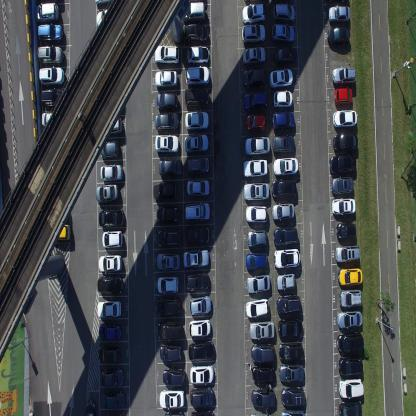car: (187, 338, 214, 360), (243, 180, 270, 202), (37, 44, 64, 66), (329, 153, 356, 175), (157, 318, 182, 341), (277, 342, 303, 364), (338, 333, 364, 355), (244, 135, 270, 157), (184, 200, 210, 222), (184, 110, 210, 132), (154, 110, 180, 132), (180, 0, 206, 22), (332, 108, 358, 130), (158, 388, 185, 409), (98, 208, 126, 228), (156, 295, 181, 317), (185, 269, 210, 291), (184, 86, 209, 108), (40, 86, 65, 108), (338, 354, 363, 376), (271, 178, 297, 199), (272, 156, 298, 177), (37, 22, 63, 43), (154, 44, 180, 65), (338, 377, 364, 398), (38, 65, 65, 85), (97, 276, 125, 295), (250, 342, 274, 364), (277, 294, 301, 316), (153, 179, 177, 201), (244, 89, 268, 111), (242, 66, 266, 88), (332, 64, 356, 86), (269, 68, 293, 90), (274, 247, 299, 268), (185, 223, 210, 244), (273, 224, 298, 245), (245, 297, 270, 318), (185, 65, 210, 86), (184, 22, 209, 43), (241, 3, 266, 24), (99, 366, 124, 387), (242, 158, 268, 178), (33, 2, 59, 22), (278, 363, 304, 383), (40, 110, 67, 129), (247, 272, 270, 294), (159, 156, 182, 178), (186, 156, 209, 178), (188, 294, 212, 315), (184, 133, 208, 154), (155, 134, 179, 155), (96, 183, 120, 204), (99, 115, 123, 136), (271, 23, 295, 44), (281, 386, 305, 407), (190, 386, 214, 407), (338, 267, 363, 287), (95, 9, 120, 29), (189, 364, 214, 384), (101, 389, 126, 409), (183, 248, 209, 267), (155, 251, 181, 270), (250, 321, 276, 340), (337, 311, 363, 330), (335, 244, 361, 263), (241, 46, 267, 65), (339, 289, 362, 310), (186, 44, 209, 65), (278, 319, 302, 339), (97, 298, 121, 318), (154, 68, 178, 88), (273, 46, 297, 66), (251, 388, 275, 408), (162, 366, 186, 386), (157, 227, 182, 246), (98, 254, 123, 273), (241, 24, 266, 43), (333, 133, 358, 152), (331, 196, 356, 215), (98, 345, 120, 366), (102, 228, 124, 249), (272, 201, 294, 222), (159, 342, 182, 362), (156, 90, 179, 110), (272, 109, 295, 129), (327, 26, 350, 46), (98, 324, 122, 343), (156, 205, 180, 224), (156, 274, 178, 294), (245, 250, 267, 270), (252, 363, 274, 383), (272, 135, 295, 154), (47, 222, 70, 241), (272, 2, 295, 21), (331, 176, 354, 195), (186, 178, 210, 196), (101, 164, 125, 182), (247, 227, 267, 248), (245, 112, 266, 132), (328, 4, 350, 23), (335, 221, 357, 240), (245, 204, 268, 222), (339, 398, 362, 416), (276, 272, 296, 292), (100, 141, 120, 161), (188, 318, 210, 336), (273, 88, 293, 107), (334, 87, 352, 106), (84, 400, 97, 416), (190, 408, 214, 416), (280, 408, 307, 415), (96, 0, 117, 8), (163, 410, 187, 415), (250, 410, 273, 415)
